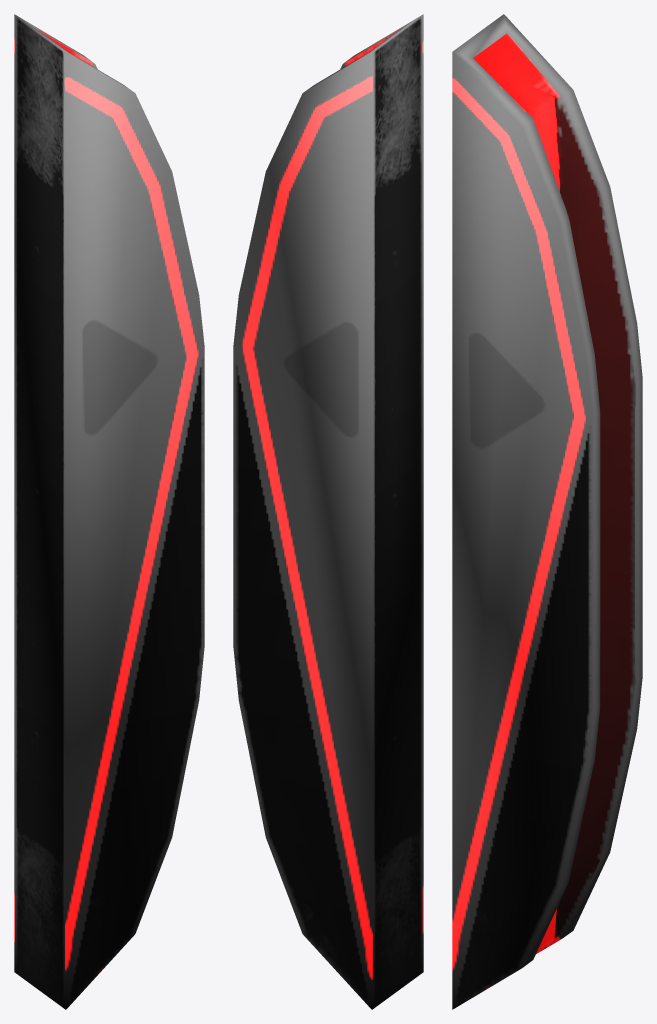
Rendered from emancipationGrid.glb.
3 renders of one model, left to right at view 1: azimuth 30°, elevation 25°; view 2: azimuth 150°, elevation 25°; view 3: azimuth 330°, elevation 25°, orthographic.
Visible parts, largest first — view 1: Cube.010; view 2: Cube.010; view 3: Cube.010.
Part boxes in pixels (x1,y1,x2,y2): Cube.010: (14, 14, 204, 1009); Cube.010: (233, 14, 423, 1009); Cube.010: (452, 14, 642, 1009).
Size of the model in its own units: 0.4003 by 2.63 by 0.2572.
1 material, 1 textured.
